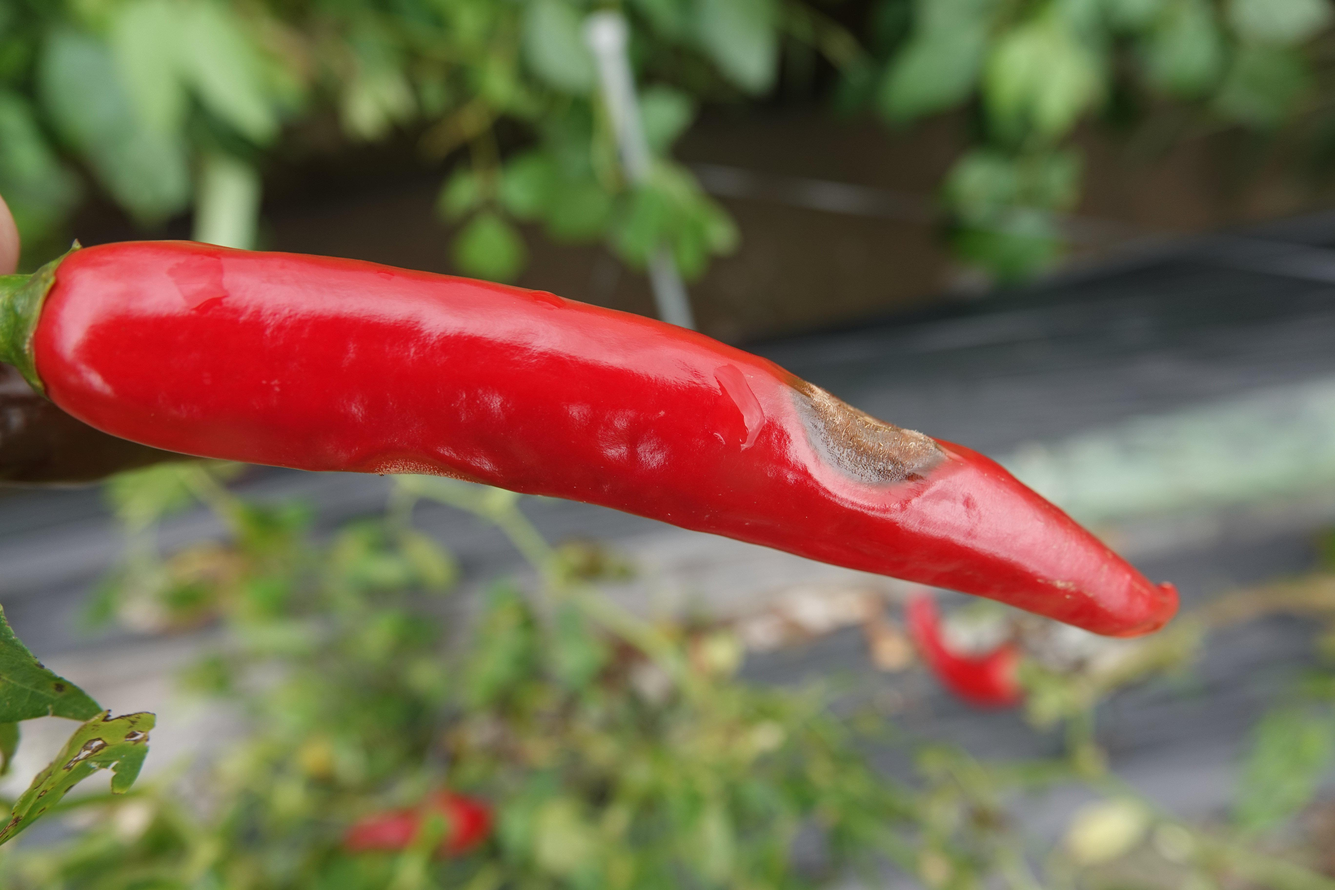Busuk Buah Antraknosa: (2, 231, 1183, 645)
